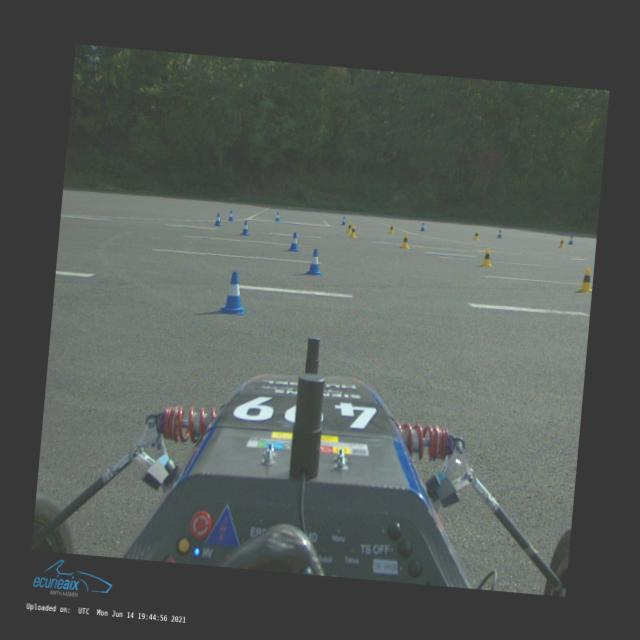blue_cone: (220, 270, 248, 315), (304, 248, 324, 276), (288, 232, 300, 252), (240, 220, 251, 236), (213, 212, 222, 225), (228, 210, 235, 221), (567, 234, 574, 244), (274, 212, 280, 222), (420, 222, 426, 231), (496, 229, 502, 238), (341, 216, 346, 224)
yellow_cone: (576, 266, 594, 292), (479, 247, 494, 268), (400, 232, 410, 248), (348, 224, 358, 238), (472, 229, 480, 241), (388, 223, 396, 234), (558, 236, 564, 248), (346, 221, 352, 233)
